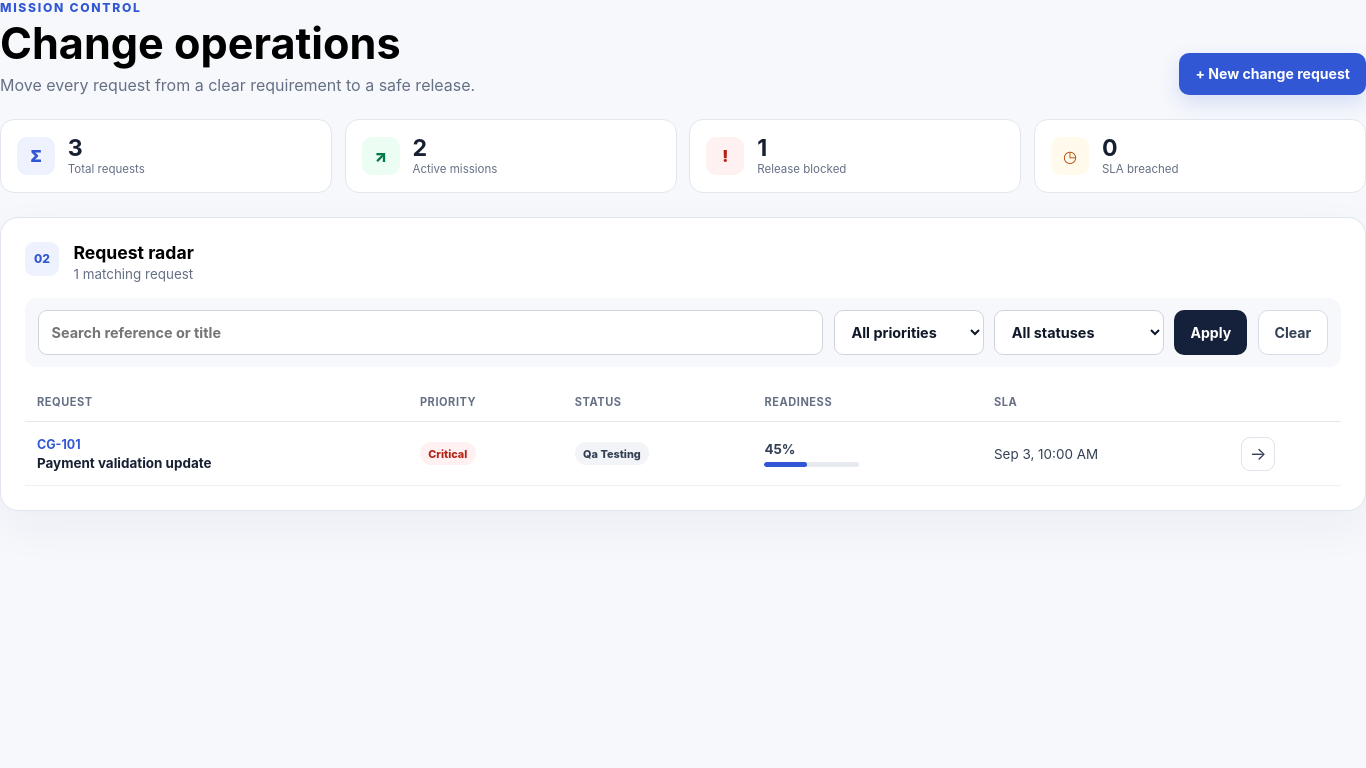
Test: ChangeRequestWorkspace › protects the create endpoint with client-side business input validation
Click the button "+ New change request": (1273,74) [1179,53,1365,95]
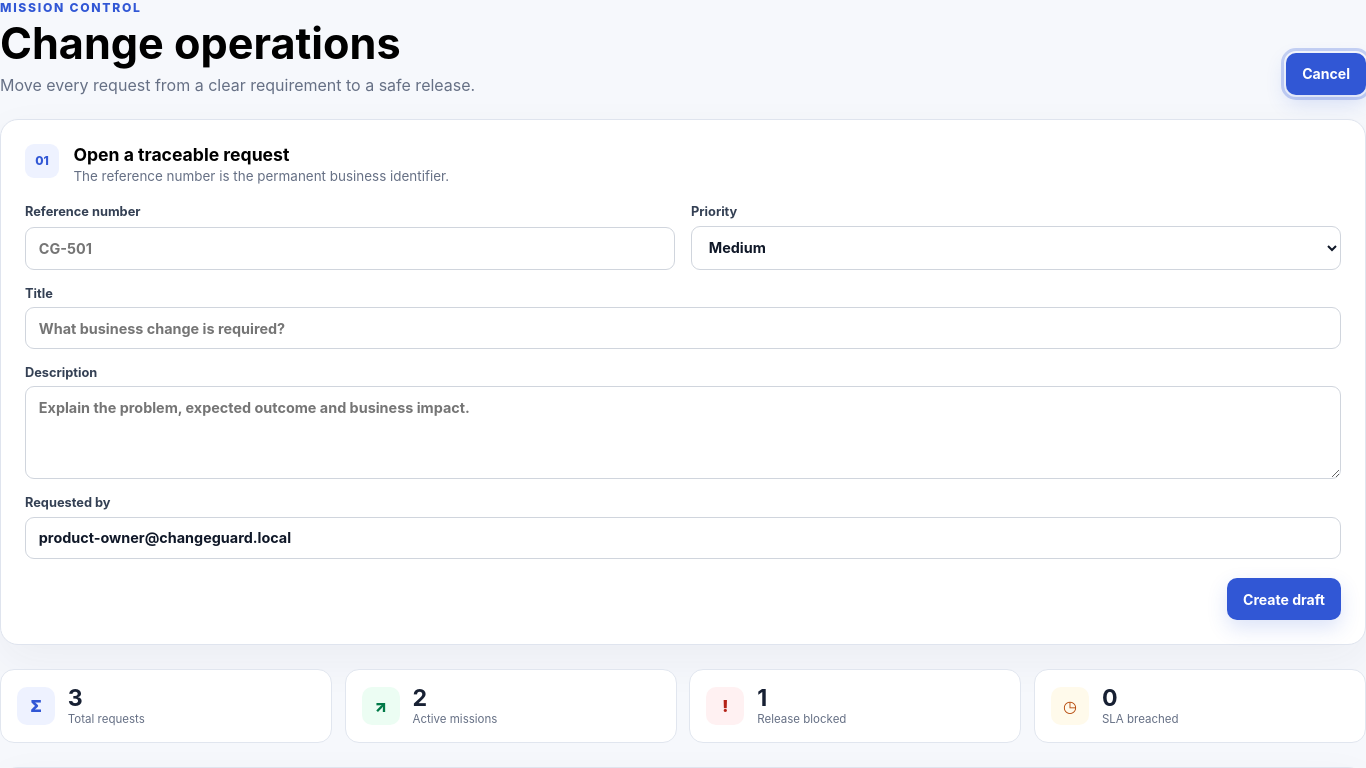
Clear the field labelled "Reference number": (350,248) [25,227,675,270]
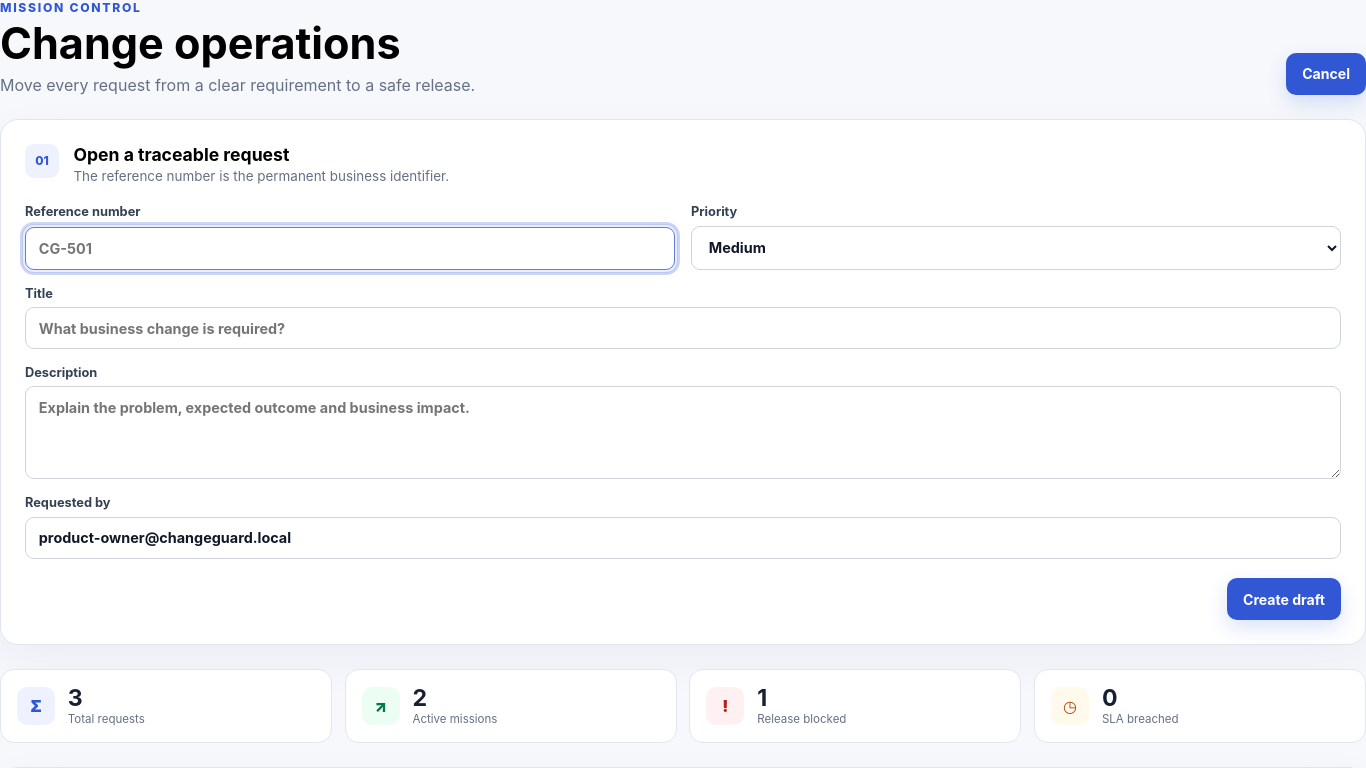
Clear the field labelled "Title": (683,328) [25,307,1341,349]
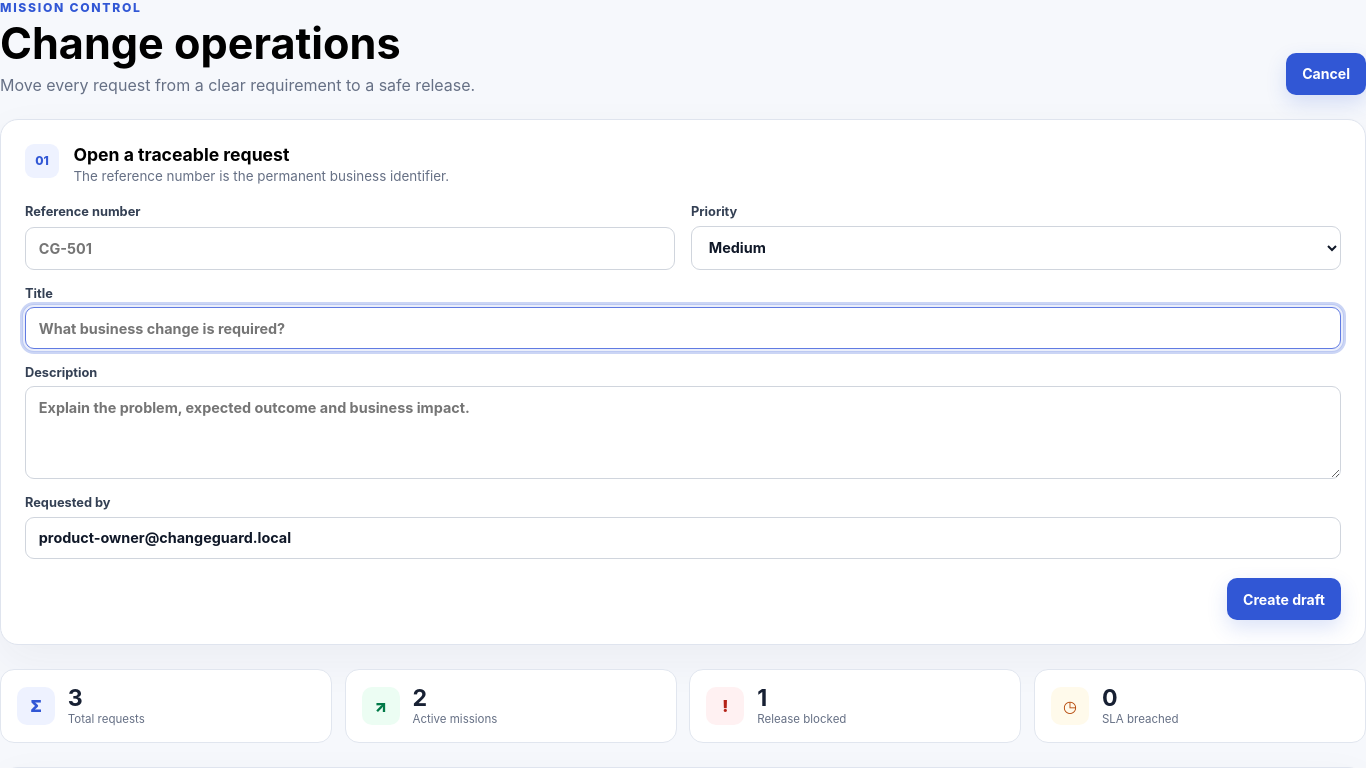
Click the button "Create draft": (1284,599) [1227,578,1341,620]
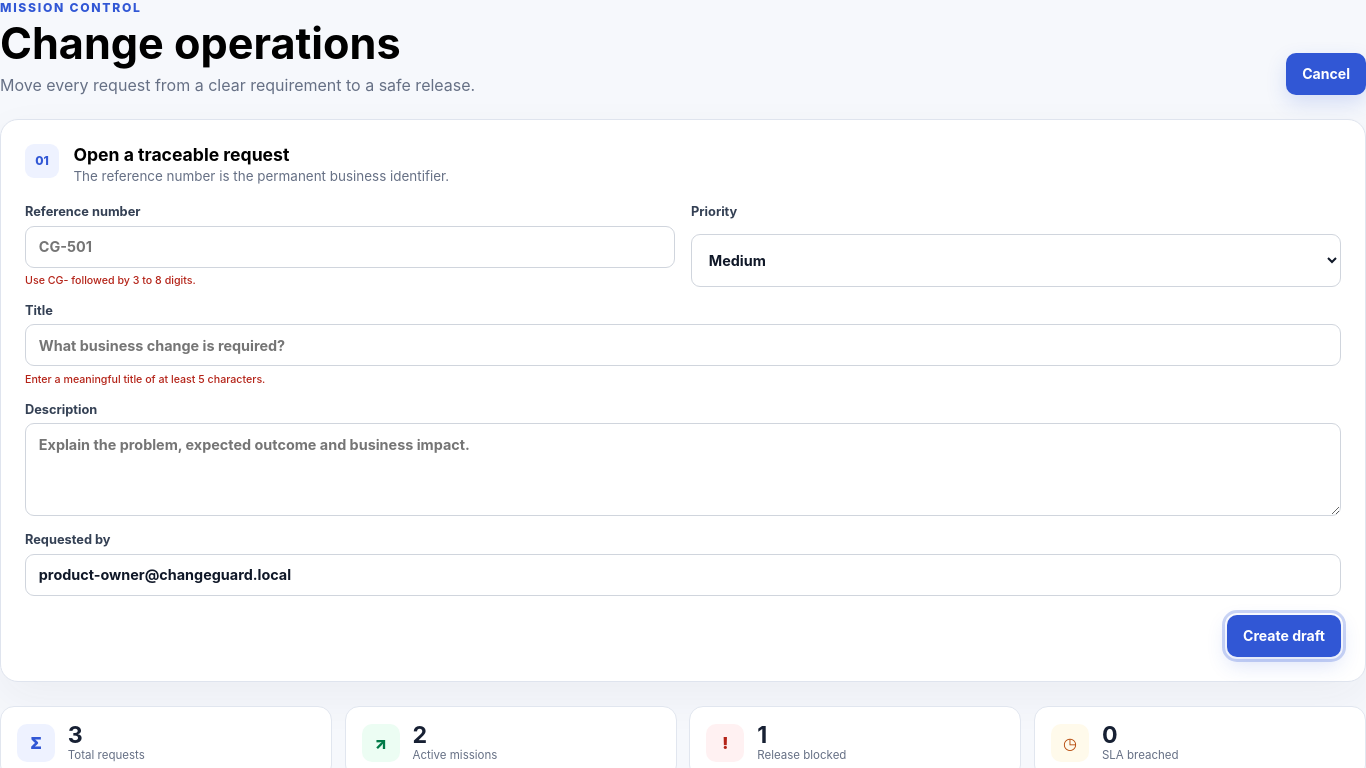
Check: the text "Use CG- followed by 3 to 8 digits." is shown, box [25,274,196,287]
Check: the text "Enter a meaningful title of at least 5 characters." is shown, box [25,373,265,386]
